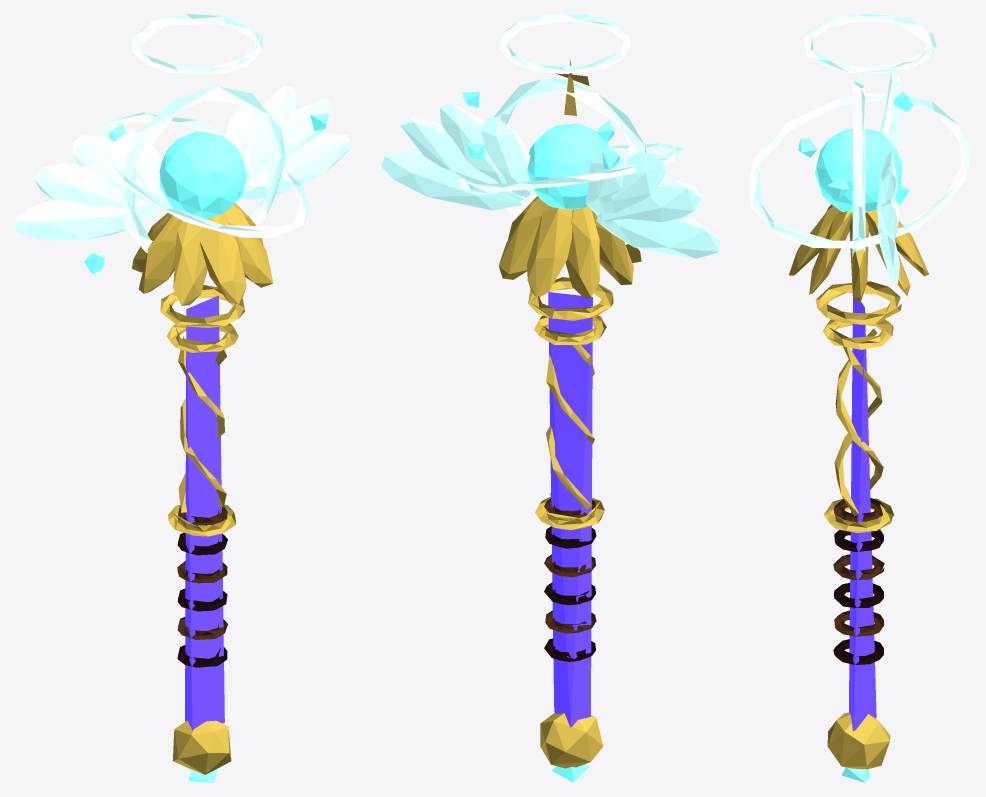
File: wand_9.glb
The picture shows the model from 3 angles, left to right: view 1: azimuth 30°, elevation 25°; view 2: azimuth 150°, elevation 25°; view 3: azimuth 270°, elevation 25°; orthographic projection.
Parts seen in each view (by area): view 1: part_01, part_23, part_24, part_26, part_25, part_27, part_30, part_40, part_11, part_17, part_18, part_31 (+11 smaller); view 2: part_01, part_23, part_30, part_26, part_21, part_11, part_24, part_40, part_31, part_20, part_27, part_33 (+11 smaller); view 3: part_01, part_25, part_23, part_11, part_40, part_24, part_10, part_16, part_14, part_09, part_13, part_08 (+14 smaller).
Part boxes in pixels (x1,y1,x2,y2): part_01: (185,295,224,730); part_23: (159,131,246,218); part_24: (121,86,286,252); part_26: (14,200,155,240); part_25: (99,112,310,237); part_27: (33,163,154,216); part_30: (238,133,352,199); part_40: (130,14,263,73); part_11: (172,720,231,774); part_17: (200,213,246,304); part_18: (173,221,207,305); part_31: (243,98,332,190); part_01: (548,292,592,727); part_23: (527,123,608,209); part_30: (381,151,522,210); part_26: (596,216,720,258); part_21: (527,206,572,296); part_11: (540,713,603,768); part_24: (494,79,646,244); part_40: (499,14,630,73); part_31: (400,117,524,200); part_20: (565,206,599,298); part_27: (597,179,701,222); part_33: (481,117,532,198); part_01: (849,297,876,731); part_25: (749,93,971,248); part_23: (815,128,902,212); part_11: (827,712,890,769); part_40: (804,14,936,73); part_24: (852,76,865,257); part_10: (815,281,901,324); part_16: (809,211,852,294); part_14: (834,346,882,516); part_09: (823,319,893,349); part_13: (835,328,883,489); part_08: (824,498,894,532).
Bounding box in the file's own units: 0.3766 × 0.7858 × 0.2137.
